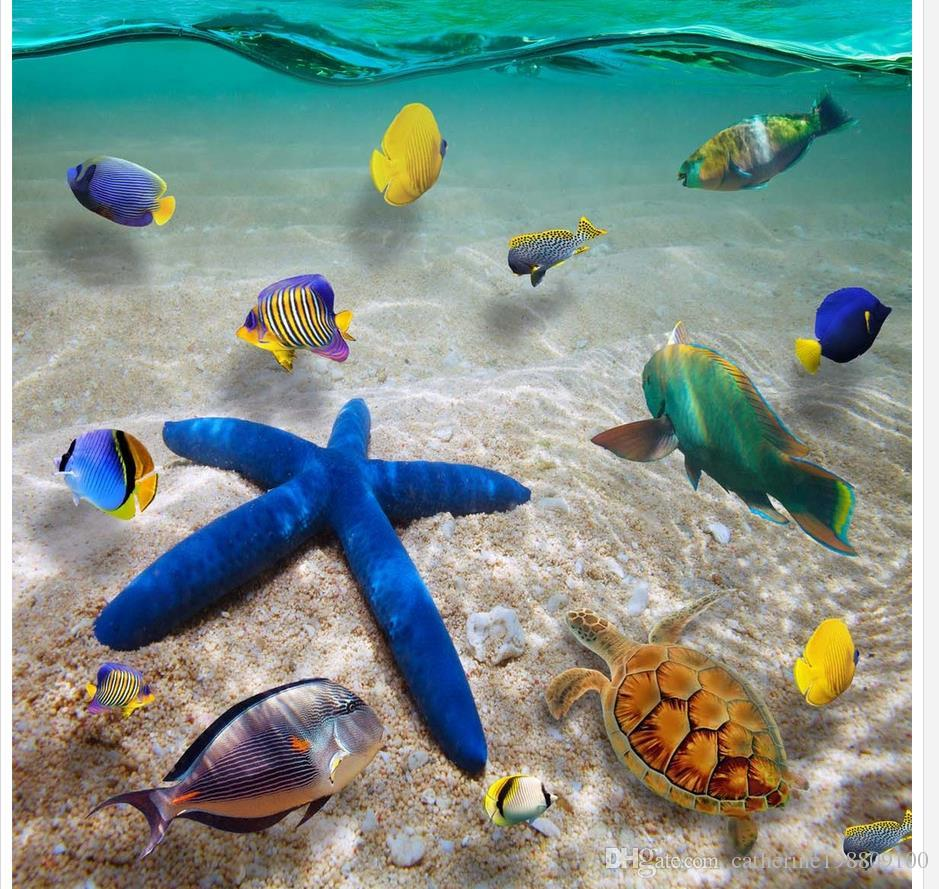fish: (613, 320, 844, 555), (131, 690, 384, 851), (212, 278, 377, 388), (346, 111, 504, 224), (666, 112, 866, 190), (40, 425, 167, 531), (54, 152, 190, 240), (489, 214, 614, 291)
starfish: (135, 392, 546, 752)
trutle: (527, 592, 826, 877)
